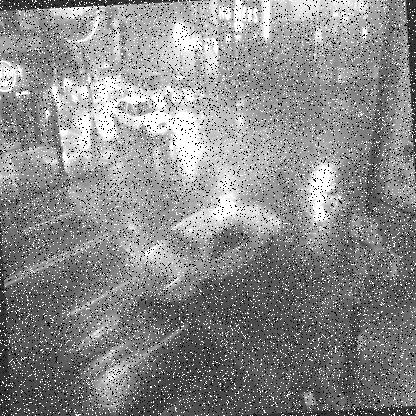Car: (137, 198, 284, 304), (112, 89, 167, 138), (62, 68, 106, 106), (166, 74, 204, 106), (89, 59, 121, 93)
